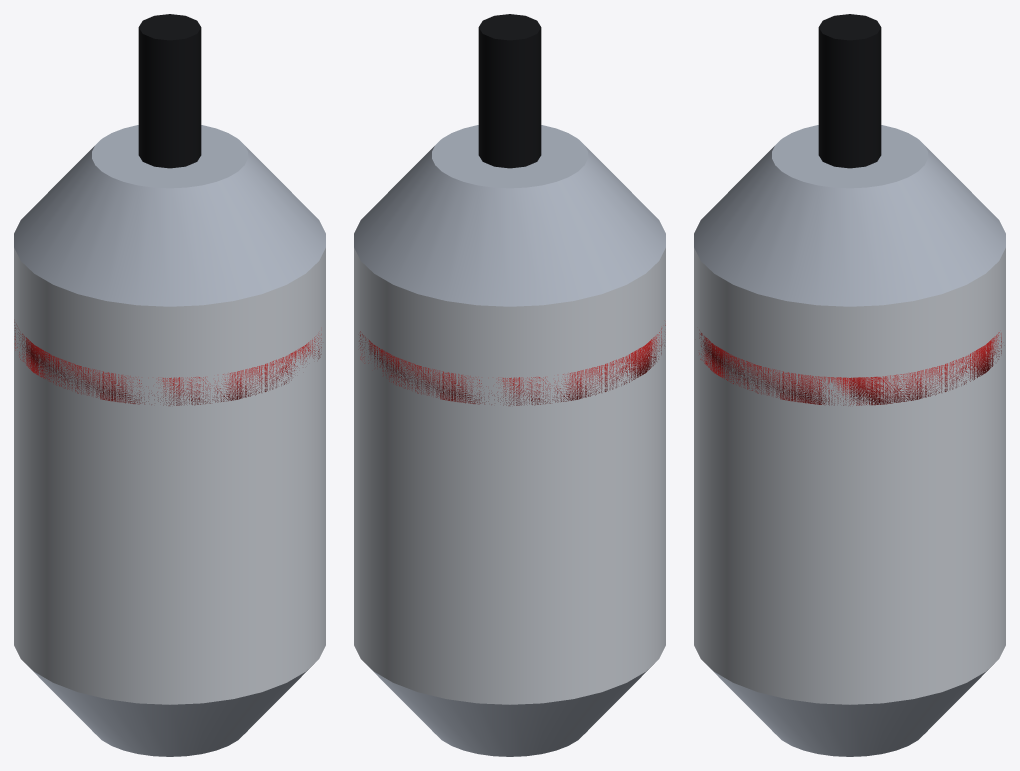
3 renders of one model, left to right at view 1: azimuth 30°, elevation 25°; view 2: azimuth 150°, elevation 25°; view 3: azimuth 270°, elevation 25°, orthographic.
Visible parts, largest first — view 1: Filtro de combustible; view 2: Filtro de combustible; view 3: Filtro de combustible.
Part boxes in pixels (x1,y1,x2,y2): Filtro de combustible: (14,14,325,756); Filtro de combustible: (354,14,665,756); Filtro de combustible: (694,14,1005,756).
Size of the model in its own units: 0.4082 by 1 by 0.4059.
